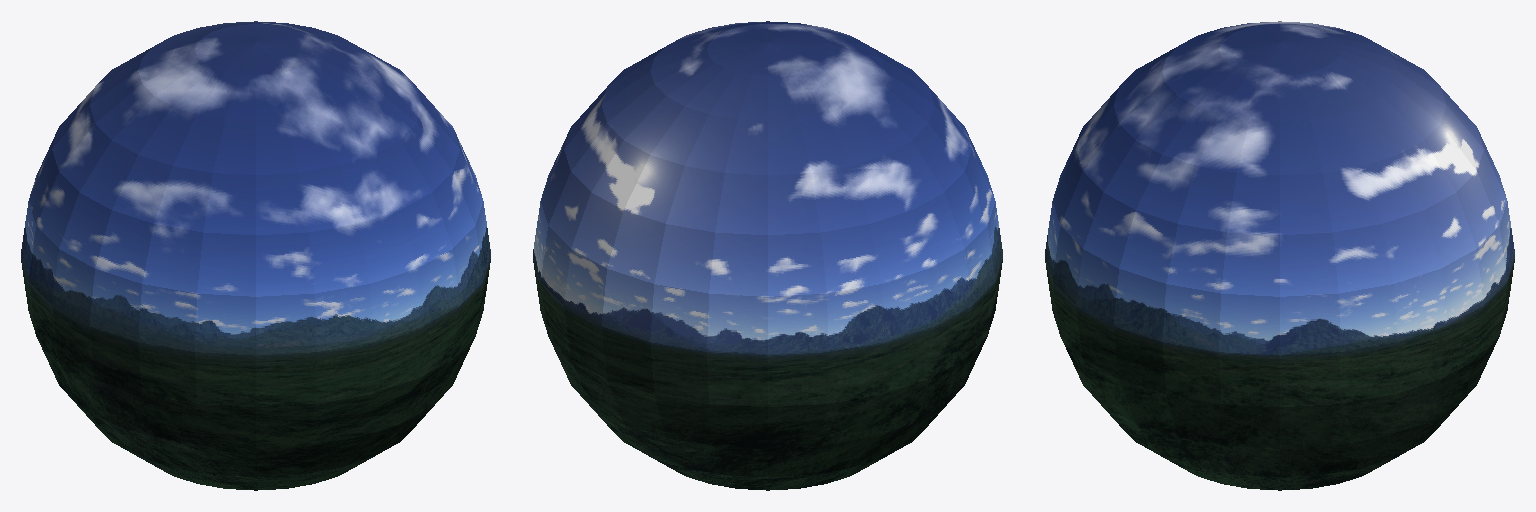
The picture shows the model from 3 angles: view 1: azimuth 30°, elevation 25°; view 2: azimuth 150°, elevation 25°; view 3: azimuth 270°, elevation 25°; orthographic projection.
Parts seen in each view (by area): view 1: Sphere001; view 2: Sphere001; view 3: Sphere001.
Part boxes in pixels (x1,y1,x2,y2): Sphere001: (21,21,490,490); Sphere001: (533,21,1002,490); Sphere001: (1045,21,1514,490).
Size of the model in its own units: 200 by 200 by 200.
1 materials, 1 textured.